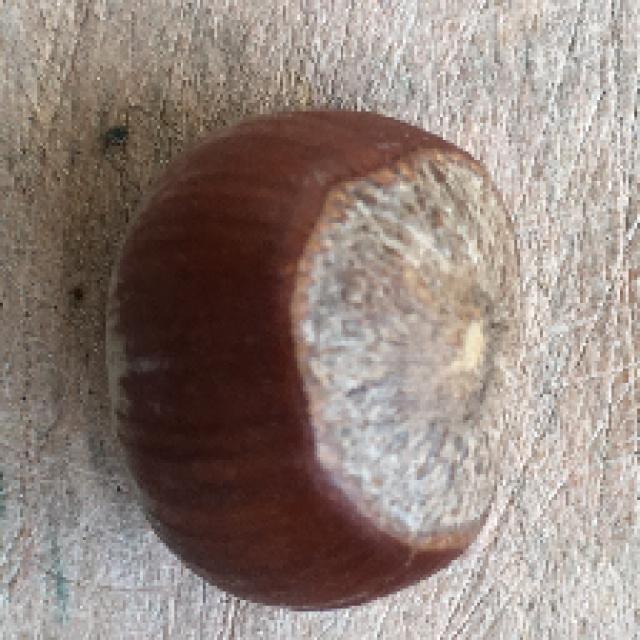qualityHazelnut: (99, 106, 531, 613)
